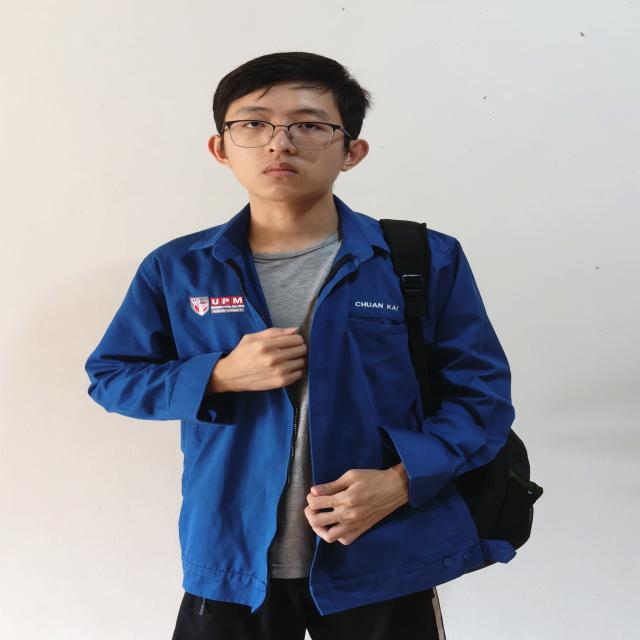person_with_labcoat: (87, 52, 542, 640)
